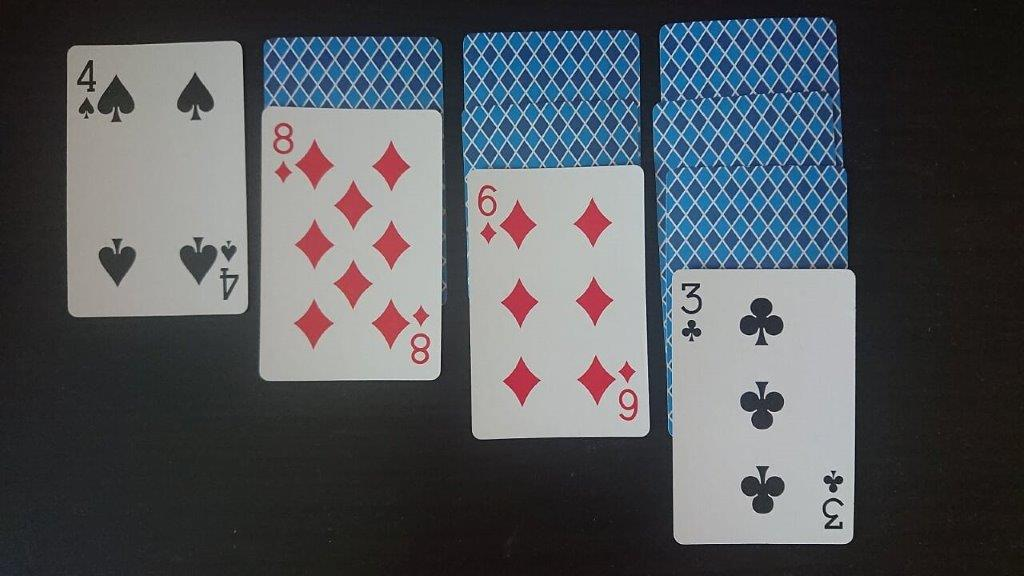3C: (674, 272, 711, 348)
4S: (72, 49, 109, 126)
6D: (473, 175, 505, 246)
8D: (269, 115, 301, 188)
BACK: (665, 165, 847, 266), (652, 92, 834, 167), (658, 16, 839, 89), (263, 36, 443, 108), (462, 29, 641, 99), (461, 100, 641, 165)
